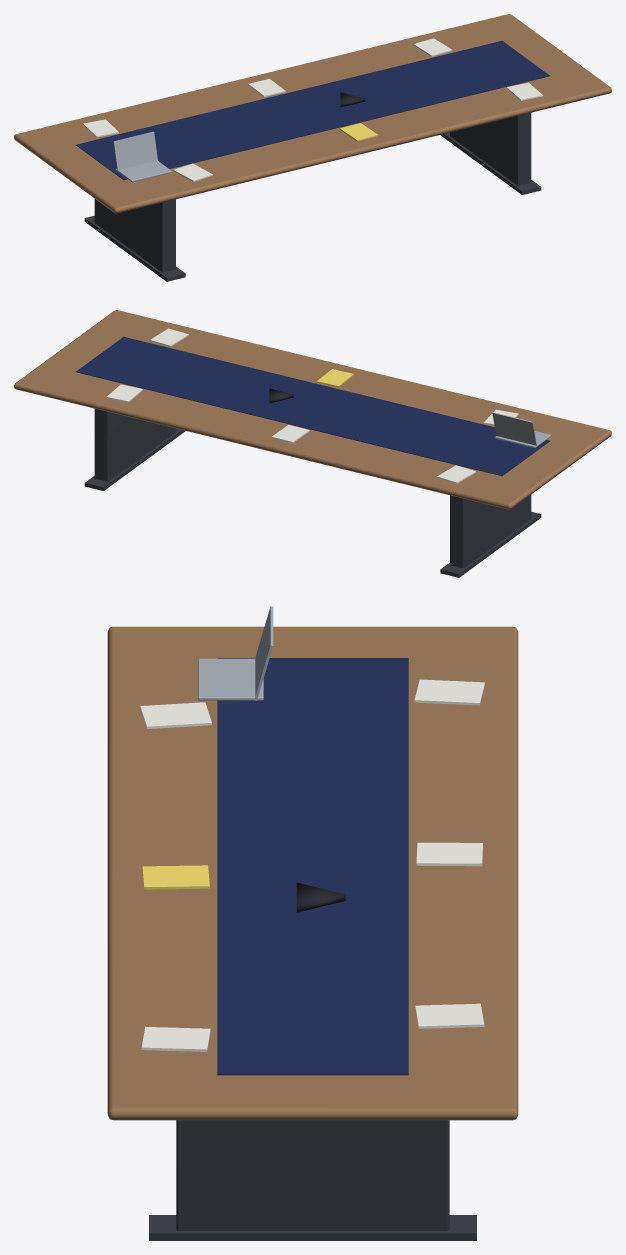
File: MeetingTable.fbx
3 views of the same model, one above another, from view 1: azimuth 30°, elevation 25°; view 2: azimuth 150°, elevation 25°; view 3: azimuth 270°, elevation 25° (orthographic). The views are drawn at different scales.
Visible parts, largest first — view 1: MeetingTableBody; view 2: MeetingTableBody; view 3: MeetingTableBody.
Part boxes in pixels (box(x1,y1,x2,y2)): MeetingTableBody: box(14, 14, 611, 281); MeetingTableBody: box(14, 310, 611, 577); MeetingTableBody: box(107, 606, 518, 1240).
Size of the model in its own units: 4.2 by 0.9974 by 1.5.
